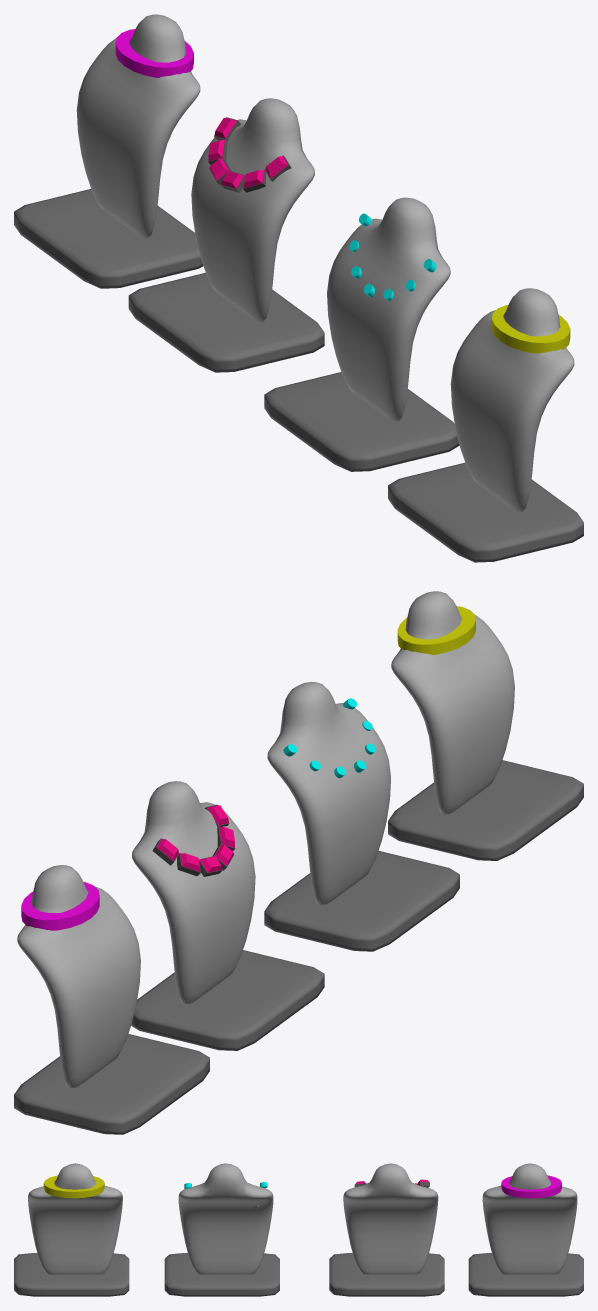
Rendered from Joias_Colares.fbx.
3 views of the same model, one above another, from view 1: azimuth 30°, elevation 25°; view 2: azimuth 150°, elevation 25°; view 3: azimuth 270°, elevation 25° (orthographic). The views are drawn at different scales.
Parts seen in each view (by area): view 1: pCube6, pCube4, pCube7, pCube5, pasted__pCube6, pasted__pCube8, pasted__pCube7, pasted__pCube5, pCylinder1, pCylinder13; view 2: pCube6, pCube7, pCube4, pCube5, pasted__pCube5, pasted__pCube8, pasted__pCube7, pasted__pCube6, pCylinder13, pCylinder1; view 3: pCube5, pCube6, pCube4, pCube7, pasted__pCube6, pasted__pCube5, pasted__pCube8, pasted__pCube7, pCylinder1, pCylinder13.
Part boxes in pixels (left/top/right/bottom): pCube6: left=327, top=197, right=450, bottom=421; pCube4: left=76, top=14, right=200, bottom=237; pCube7: left=450, top=288, right=574, bottom=511; pCube5: left=191, top=98, right=314, bottom=321; pasted__pCube6: left=128, top=272, right=324, bottom=372; pasted__pCube8: left=388, top=462, right=583, bottom=562; pasted__pCube7: left=264, top=372, right=459, bottom=471; pasted__pCube5: left=14, top=189, right=203, bottom=288; pCylinder1: left=491, top=305, right=570, bottom=353; pCylinder13: left=115, top=29, right=193, bottom=77; pCube6: left=267, top=681, right=390, bottom=905; pCube7: left=391, top=591, right=514, bottom=814; pCube4: left=17, top=865, right=140, bottom=1088; pCube5: left=132, top=781, right=255, bottom=1004; pasted__pCube5: left=14, top=1034, right=209, bottom=1134; pasted__pCube8: left=388, top=760, right=583, bottom=860; pasted__pCube7: left=264, top=851, right=459, bottom=951; pasted__pCube6: left=131, top=950, right=324, bottom=1050; pCylinder13: left=21, top=882, right=99, bottom=930; pCylinder1: left=397, top=606, right=475, bottom=654; pCube5: left=343, top=1163, right=438, bottom=1274; pCube6: left=178, top=1163, right=273, bottom=1274; pCube4: left=482, top=1163, right=577, bottom=1274; pCube7: left=28, top=1163, right=122, bottom=1274; pasted__pCube6: left=329, top=1253, right=444, bottom=1296; pasted__pCube5: left=468, top=1253, right=583, bottom=1296; pasted__pCube8: left=14, top=1253, right=129, bottom=1296; pasted__pCube7: left=164, top=1253, right=279, bottom=1296; pCylinder1: left=43, top=1175, right=104, bottom=1198; pCylinder13: left=501, top=1175, right=561, bottom=1198.
Bounding box in the file's own units: 259 × 389 × 1540.
